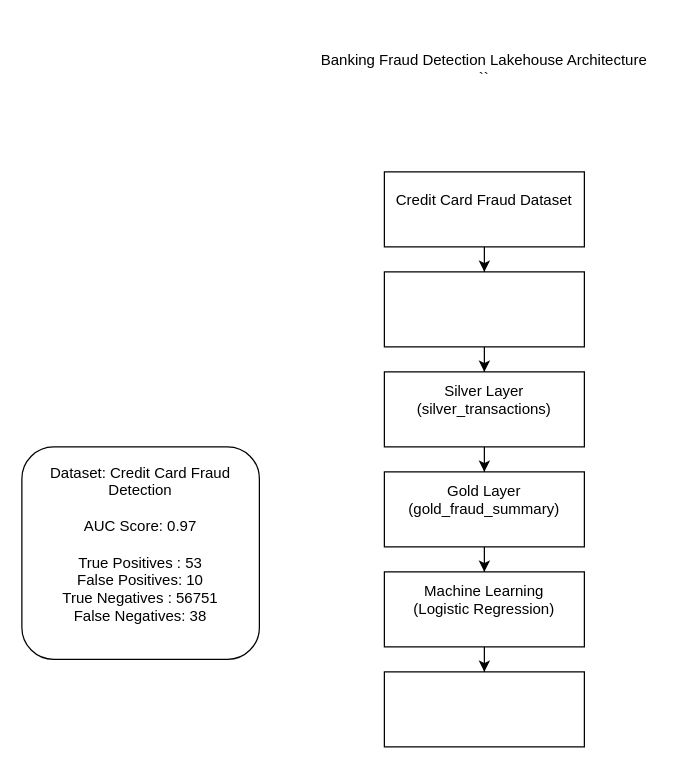
Image size: 681x775. Some labels were removed from this diagram. Here are the shapes that lost their labels. From the top down, the centre of each, then its label:
the point at 483,309: Bronze Layer (bronze_transactions)
the point at 483,709: Fraud Prediction (gold_prediction_summary)
